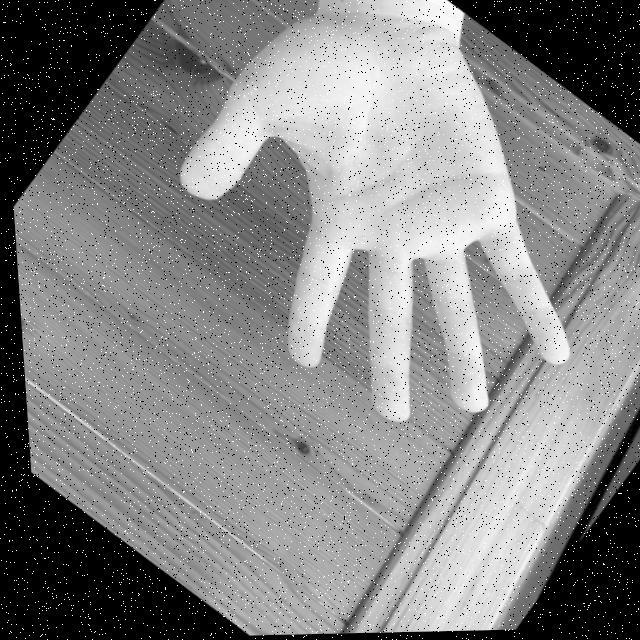no-gloves: (101, 0, 640, 504)
